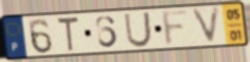6: (27, 17, 55, 55), (95, 15, 120, 49)
F: (161, 8, 191, 48)
T: (55, 15, 81, 54)
U: (123, 10, 154, 49)
V: (189, 5, 223, 47)
